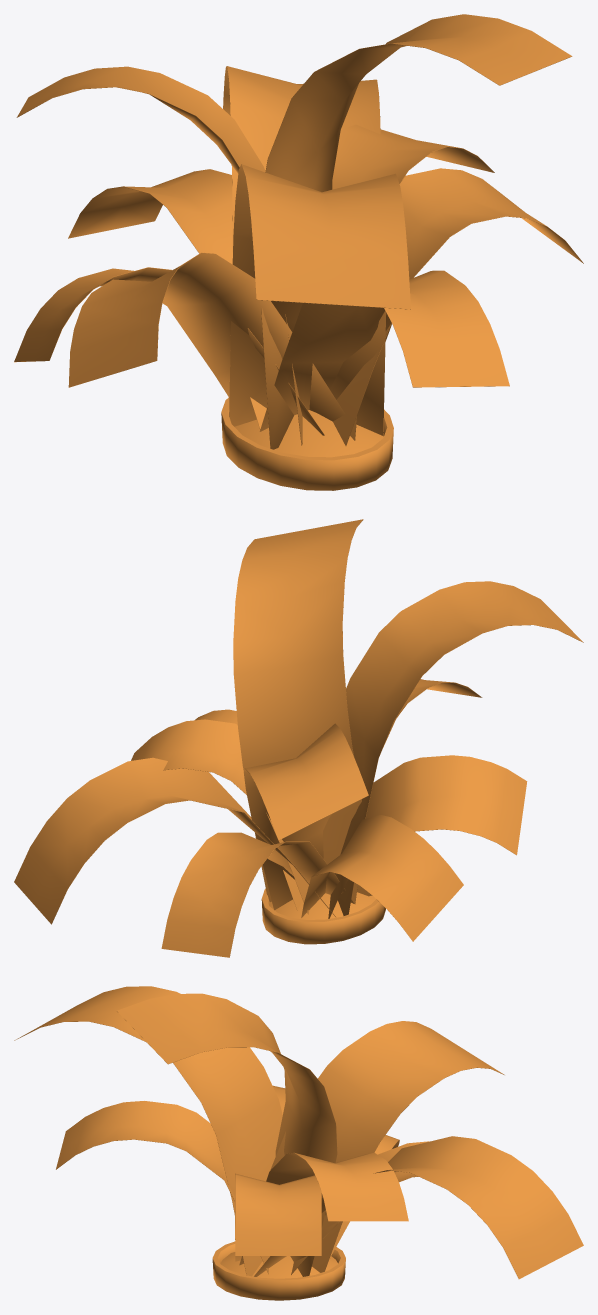
3 renders of one model, top to bottom at view 1: azimuth 30°, elevation 25°; view 2: azimuth 150°, elevation 25°; view 3: azimuth 270°, elevation 25°, orthographic. The views are drawn at different scales.
Visible parts, largest first — view 1: eb_house_plant_01.005, eb_house_plant_01.001; view 2: eb_house_plant_01.005, eb_house_plant_01.001; view 3: eb_house_plant_01.005, eb_house_plant_01.001.
Boxes of the visible parts, left/top/right/bottom form: eb_house_plant_01.005: left=14, top=14, right=571, bottom=490; eb_house_plant_01.001: left=14, top=43, right=583, bottom=449; eb_house_plant_01.005: left=14, top=519, right=582, bottom=957; eb_house_plant_01.001: left=52, top=520, right=583, bottom=957; eb_house_plant_01.005: left=17, top=986, right=583, bottom=1300; eb_house_plant_01.001: left=14, top=1011, right=506, bottom=1276.
Bounding box in the file's own units: 0.7918 × 1.19 × 0.7042.
